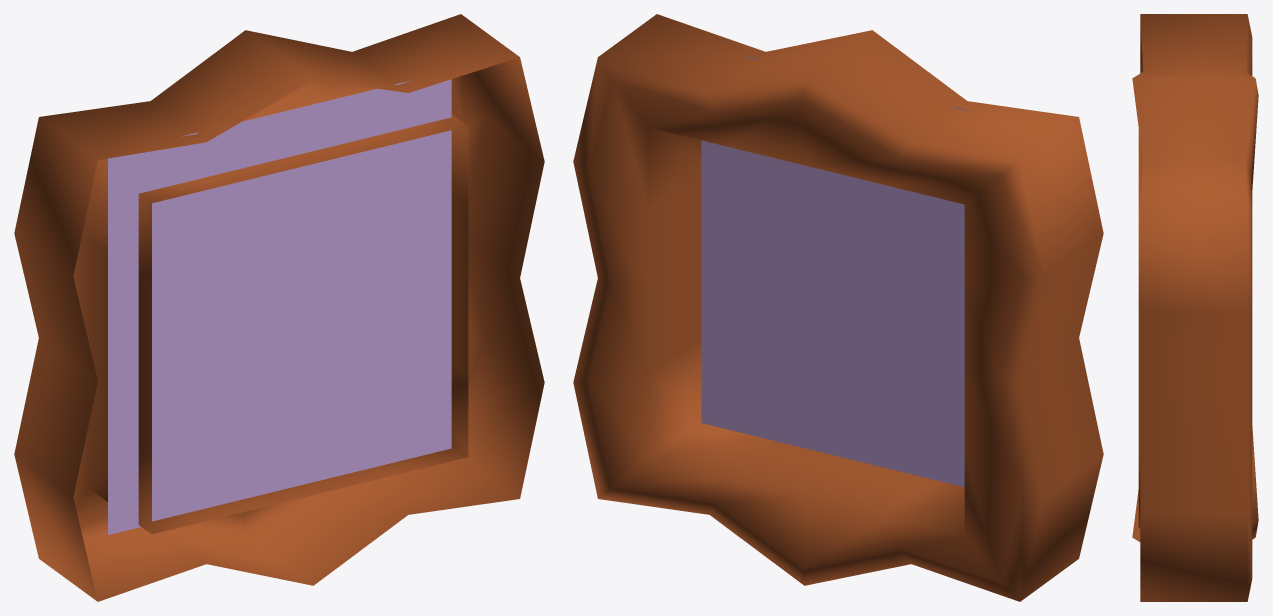
File: props_wall_painting_frame_7.fbx
3 views of the same model, side by side, from view 1: azimuth 30°, elevation 25°; view 2: azimuth 150°, elevation 25°; view 3: azimuth 270°, elevation 25° (orthographic). The views are drawn at different scales.
Visible parts, largest first — view 1: Cube.108, Cube.001; view 2: Cube.108, Cube.001; view 3: Cube.108.
Boxes of the visible parts, box(x1,y1,x2,y2) form: Cube.108: box(14, 14, 544, 601); Cube.001: box(108, 79, 451, 534); Cube.108: box(573, 14, 1103, 601); Cube.001: box(701, 54, 969, 487); Cube.108: box(1132, 14, 1258, 601).
Size of the model in its own units: 0.8071 by 0.2063 by 0.8278.
